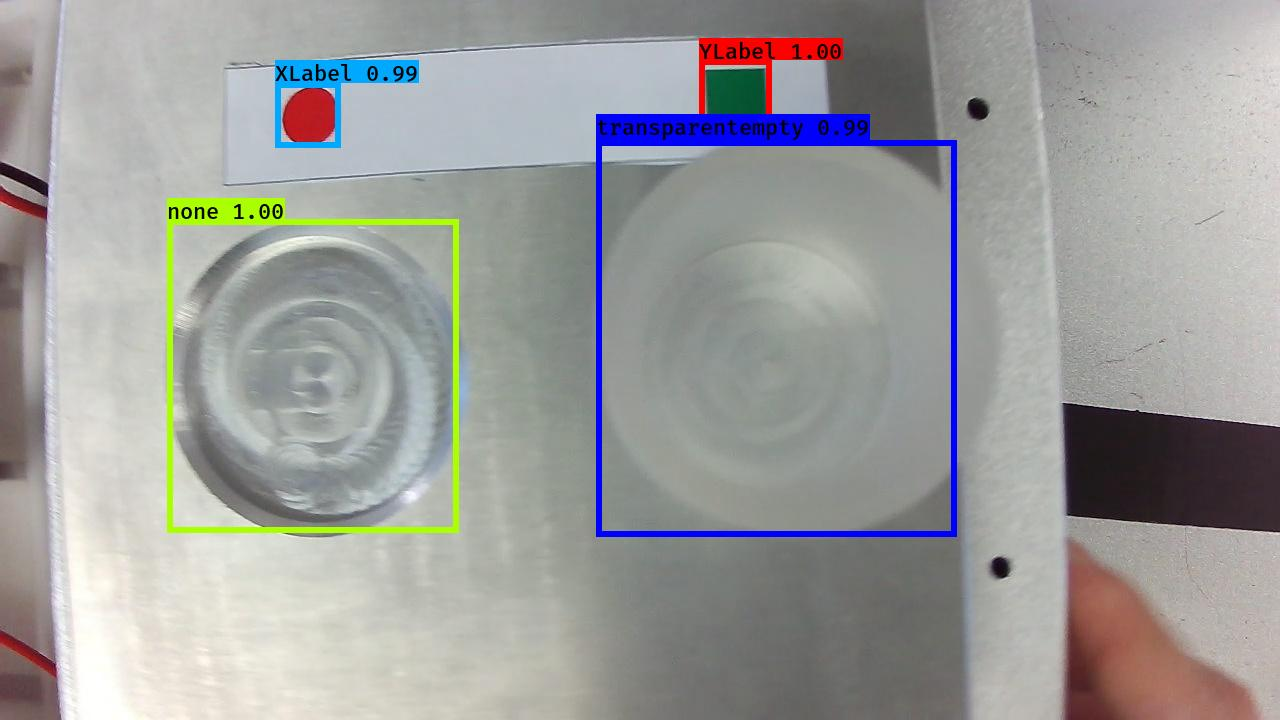XLabel: (274, 83, 343, 152)
YLabel: (701, 61, 772, 134)
none: (149, 211, 474, 544)
transparentempty: (586, 130, 1009, 547)
